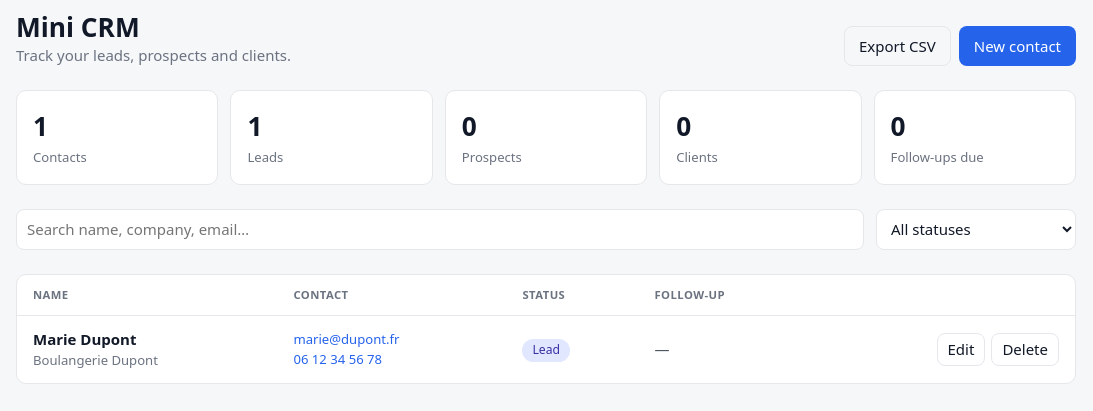
Scenario: App › deletes a contact after confirmation
Click the button with aria-label "Delete Marie Dupont".
click(1025, 350)  # box 991,333 -> 1059,366
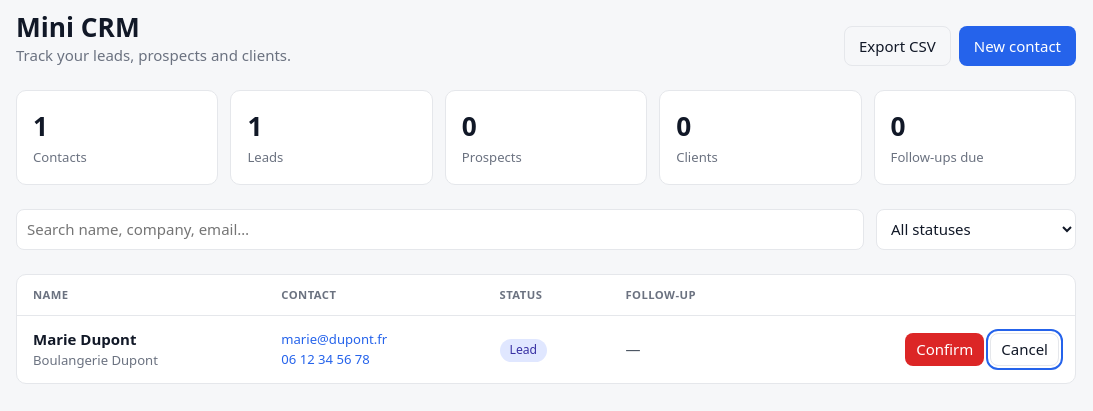
Click the button "Confirm".
click(945, 350)  # box 905,333 -> 984,366
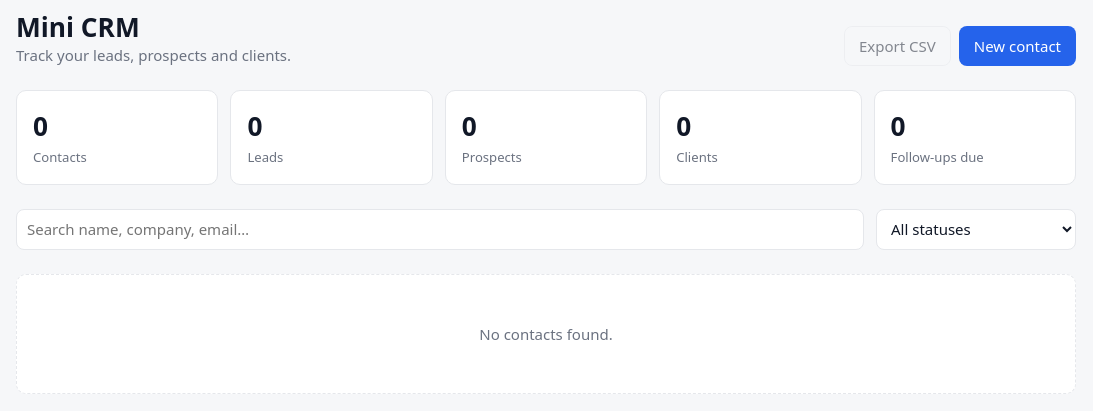
Expected: the text "No contacts found." is shown, 16,274 -> 1076,394
